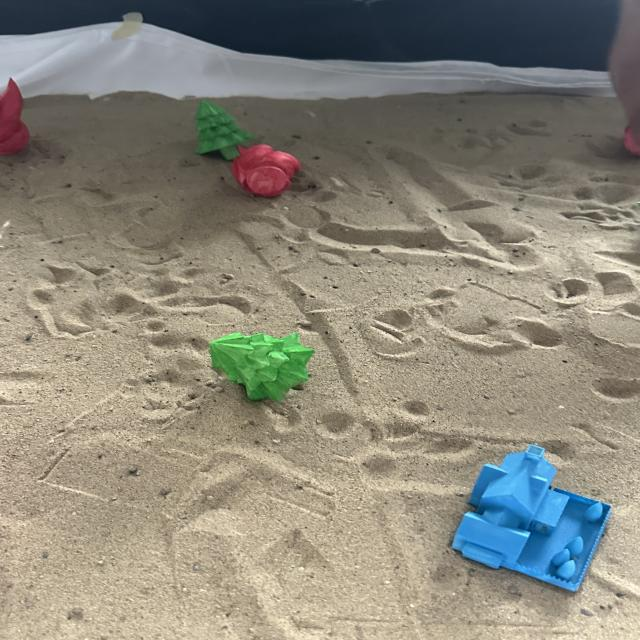fire: (229, 142, 302, 198), (0, 79, 32, 158)
house: (449, 442, 612, 593)
tree: (206, 329, 316, 403), (195, 97, 257, 165)
